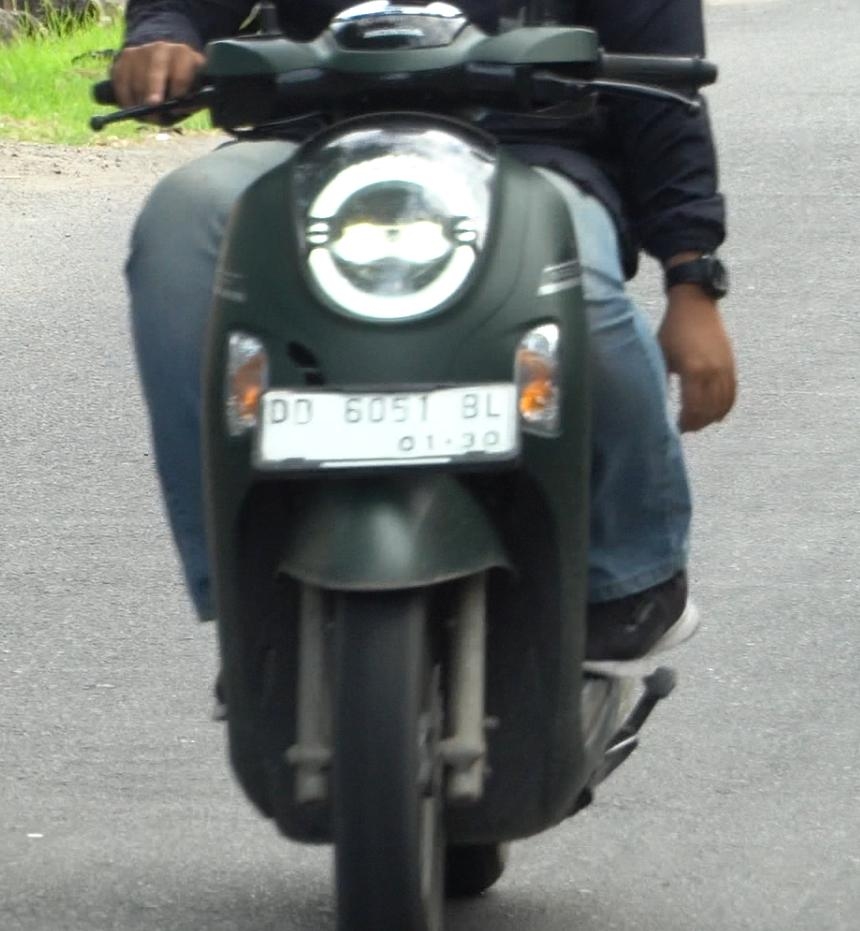number-plate: (251, 385, 513, 464)
